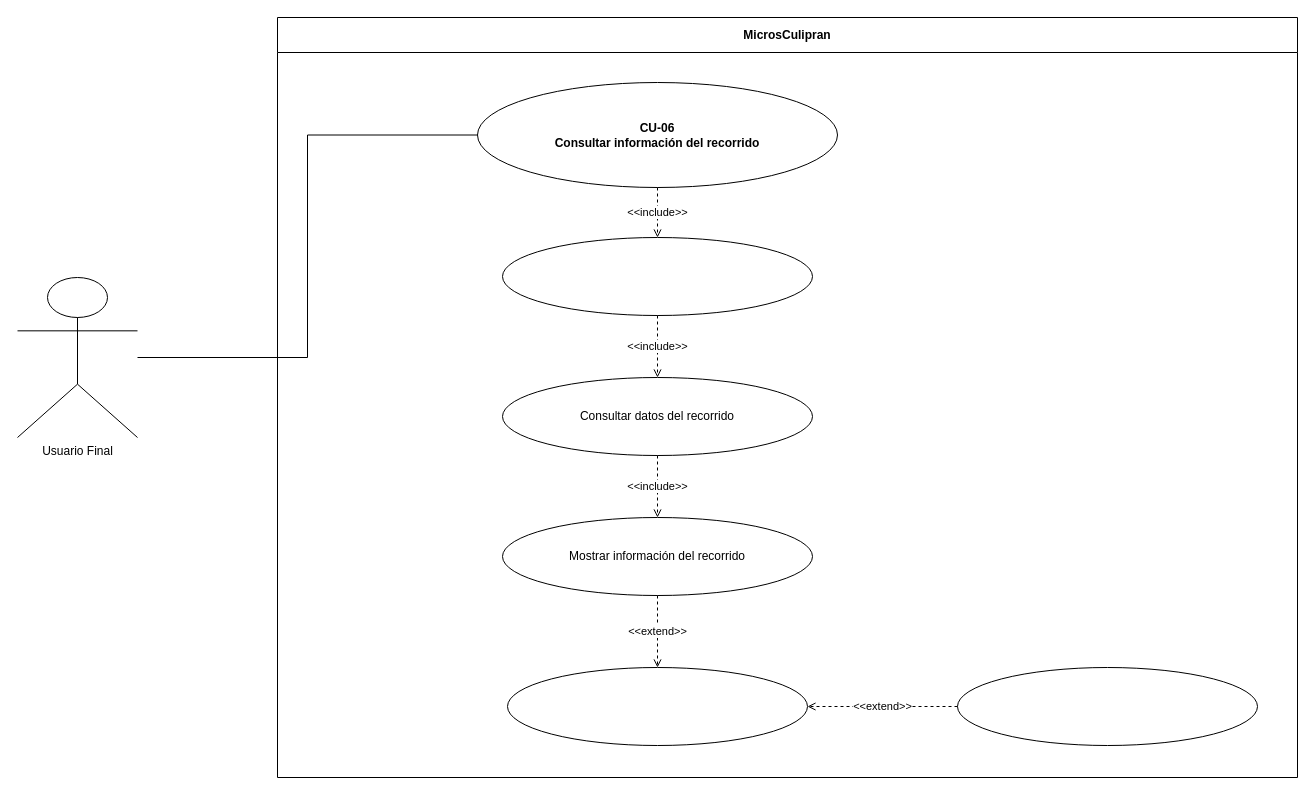
Some shapes in this 1315 by 795 pixel diagram are drawn without their labels. The centre of each missing label's shape, as x and y in pixels:
"Informar recorrido no disponible" goes at [1107,706].
"Mostrar datos disponibles" goes at [657,706].
"Seleccionar recorrido" goes at [657,276].
